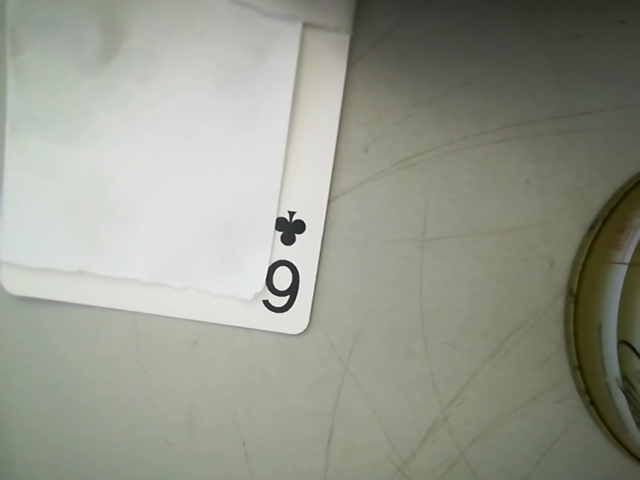mh 6: (249, 207, 321, 325)
